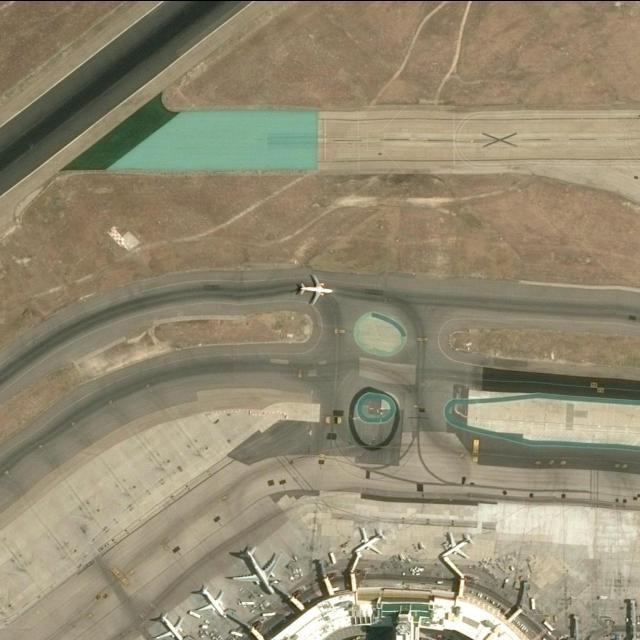Aircraft: (230, 545, 282, 594), (192, 584, 229, 620), (296, 272, 334, 305), (350, 525, 388, 555), (440, 530, 475, 560), (153, 609, 184, 640)
